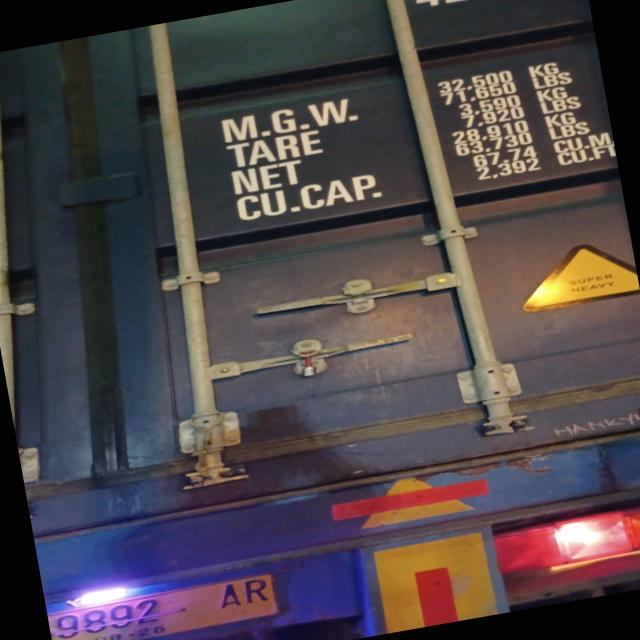seal: (287, 342, 324, 379)
